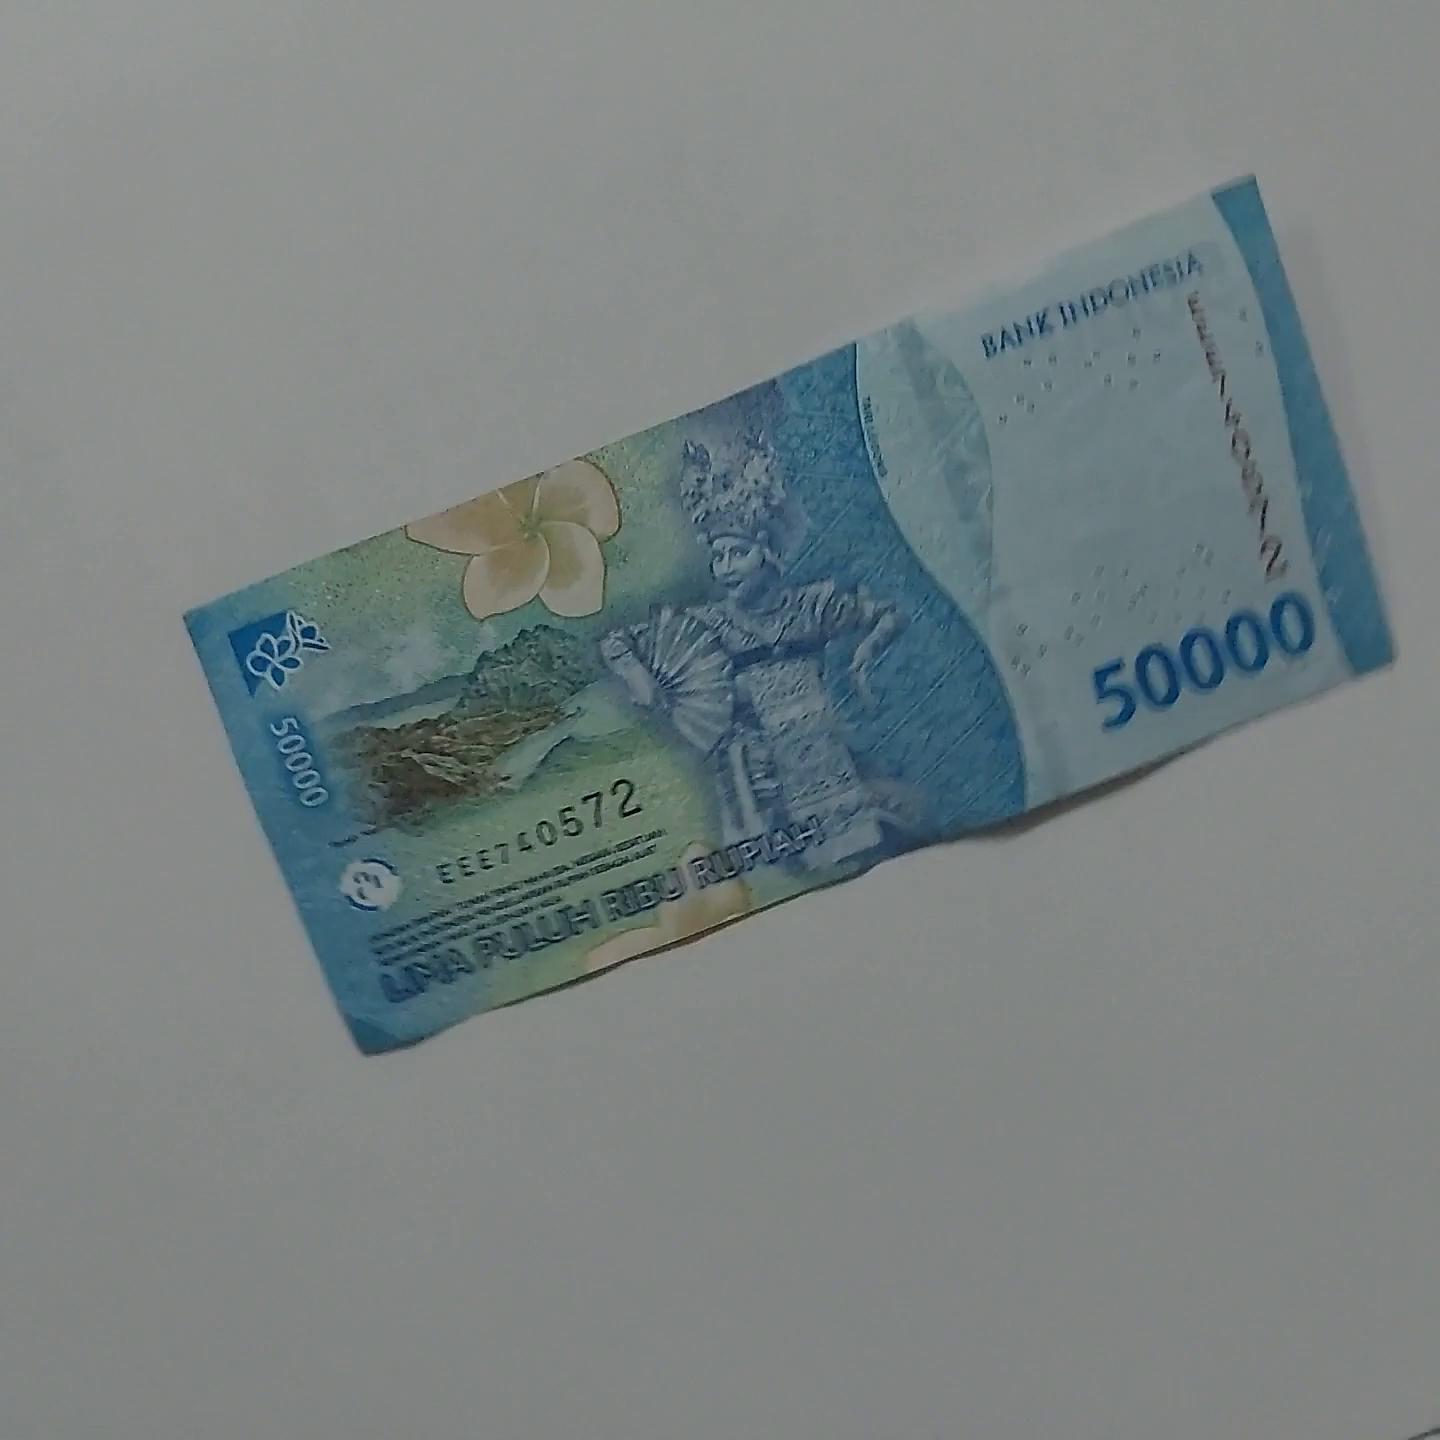50k: (137, 593, 1316, 1122), (626, 456, 794, 534)
